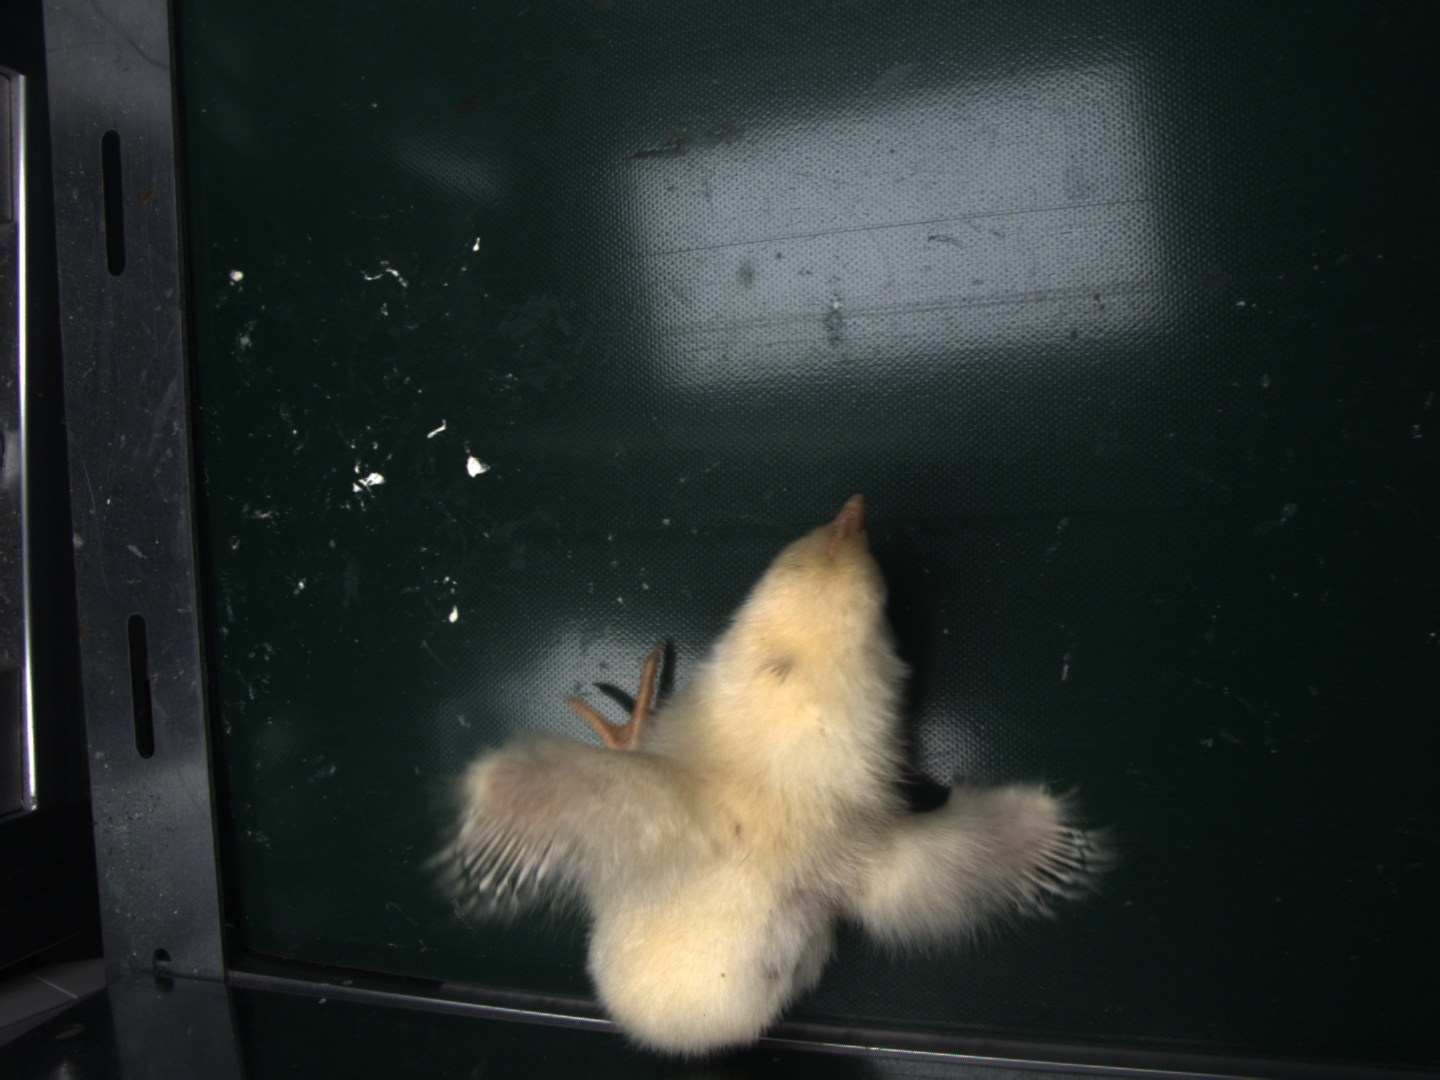male: (456, 807, 556, 900), (1016, 824, 1089, 904)
